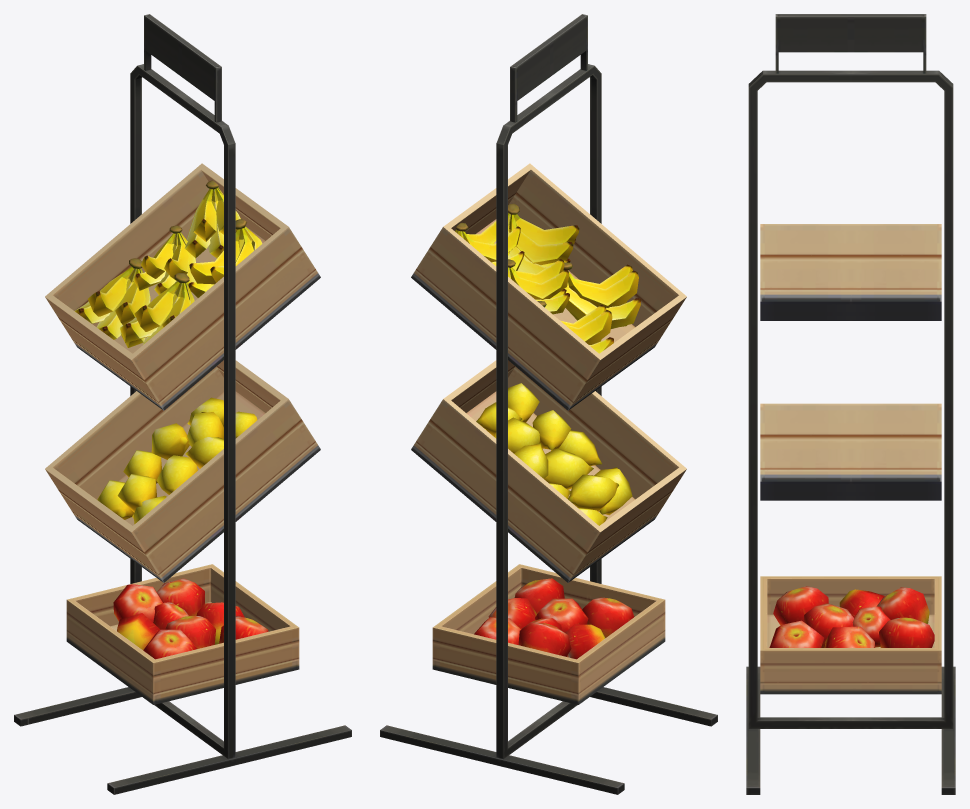
The model's file is my_shoppingmall_01_fruitstand_01.glb.
3 renders of one model, left to right at view 1: azimuth 30°, elevation 25°; view 2: azimuth 150°, elevation 25°; view 3: azimuth 270°, elevation 25°, orthographic. The views are drawn at different scales.
Visible parts, largest first — view 1: my_shoppingmall_01_fruitstand_01; view 2: my_shoppingmall_01_fruitstand_01; view 3: my_shoppingmall_01_fruitstand_01.
Boxes of the visible parts, x1,y1,x2,y2 form: my_shoppingmall_01_fruitstand_01: [14, 14, 351, 794]; my_shoppingmall_01_fruitstand_01: [380, 14, 717, 794]; my_shoppingmall_01_fruitstand_01: [746, 14, 955, 794].
Size of the model in its own units: 0.00466 by 0.0129 by 0.0034.
1 material, 1 textured.
